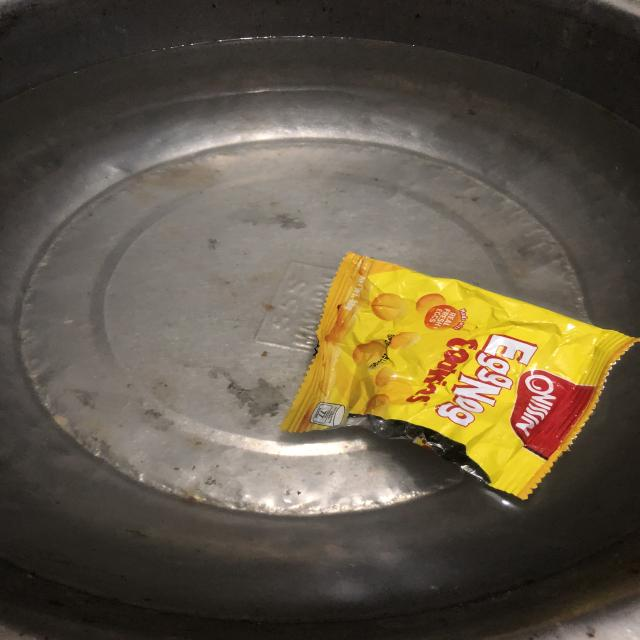Plastic Wrapper: (284, 249, 640, 500)
